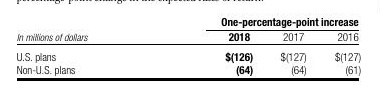table: (0, 0, 380, 101)
